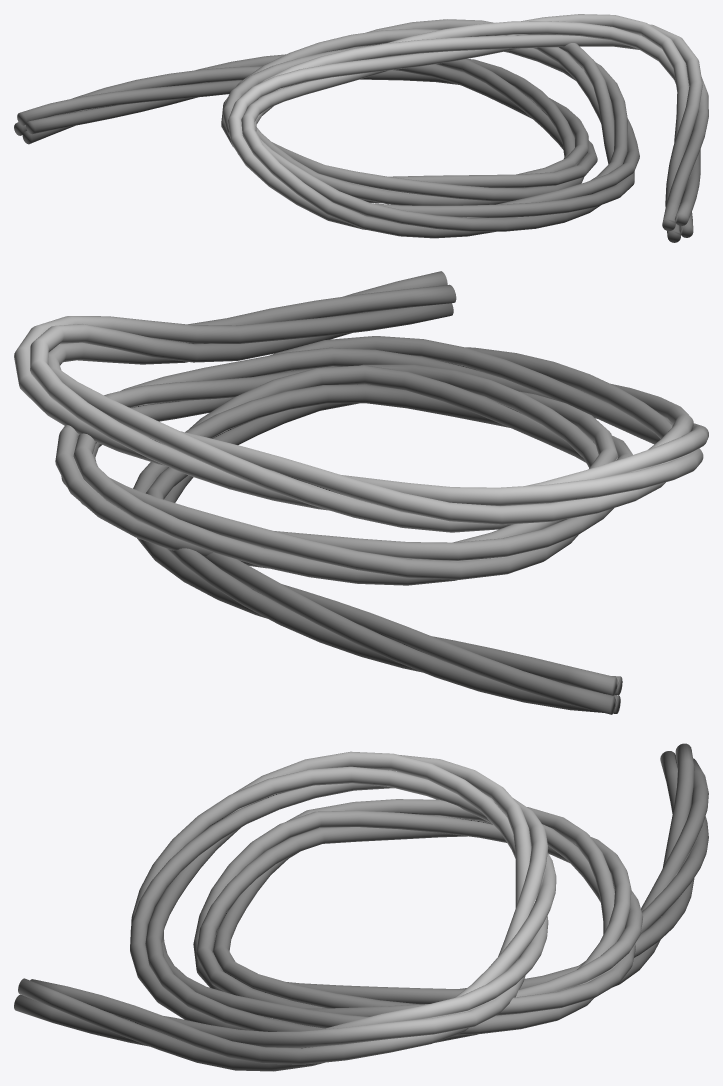
File: SM_Int_WireRope.fbx
3 renders of one model, top to bottom at view 1: azimuth 30°, elevation 25°; view 2: azimuth 150°, elevation 25°; view 3: azimuth 270°, elevation 25°, orthographic. The views are drawn at different scales.
Parts seen in each view (by area): view 1: SM_Int_Wire_Rope; view 2: SM_Int_Wire_Rope; view 3: SM_Int_Wire_Rope.
Boxes of the visible parts, box(x1,y1,x2,y2) form: SM_Int_Wire_Rope: box(14, 14, 708, 242); SM_Int_Wire_Rope: box(14, 271, 708, 714); SM_Int_Wire_Rope: box(14, 743, 708, 1071).
Bounding box in the file's own units: 1.04 × 0.1357 × 0.9322.
